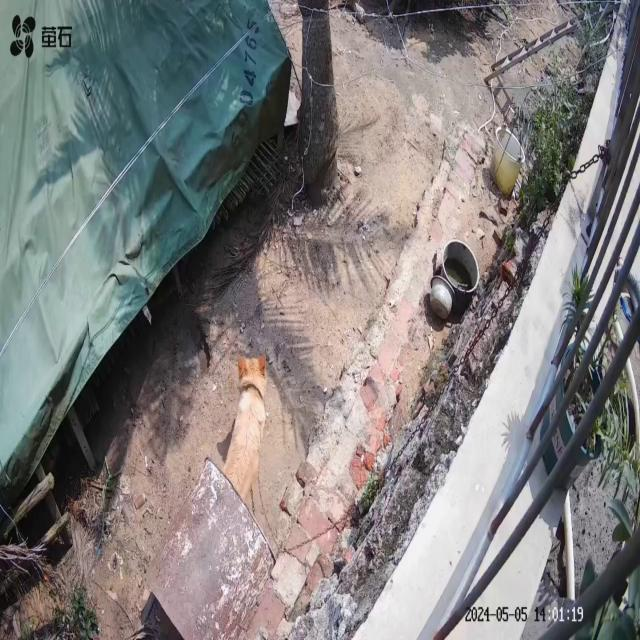dog: (223, 354, 268, 516)
